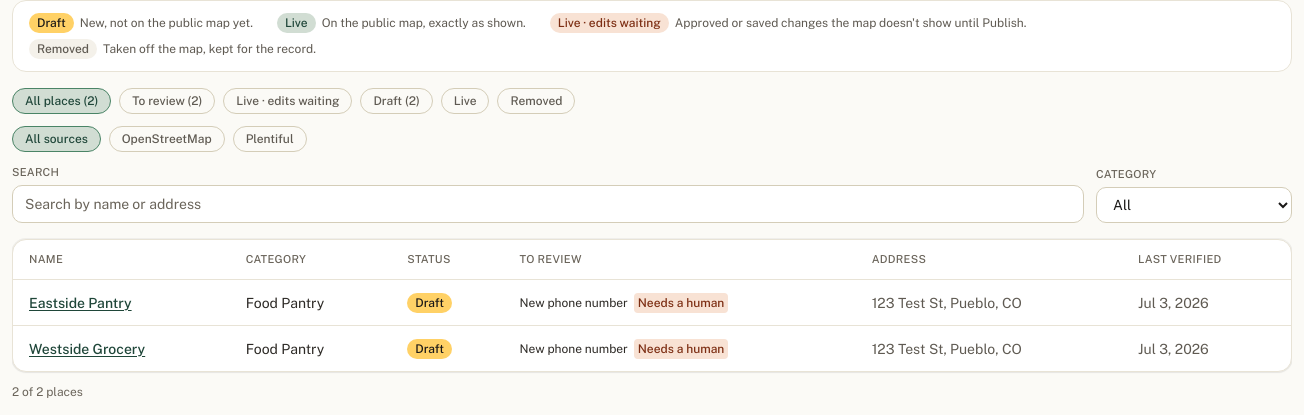
VenueListView — source/lane filters (moved from /admin/flags) › filters rows by proposal source when more than one source is present
This screenshot has width=1304, height=415.
Click the button "OpenStreetMap".
click(167, 139)  # box [109,126,225,152]
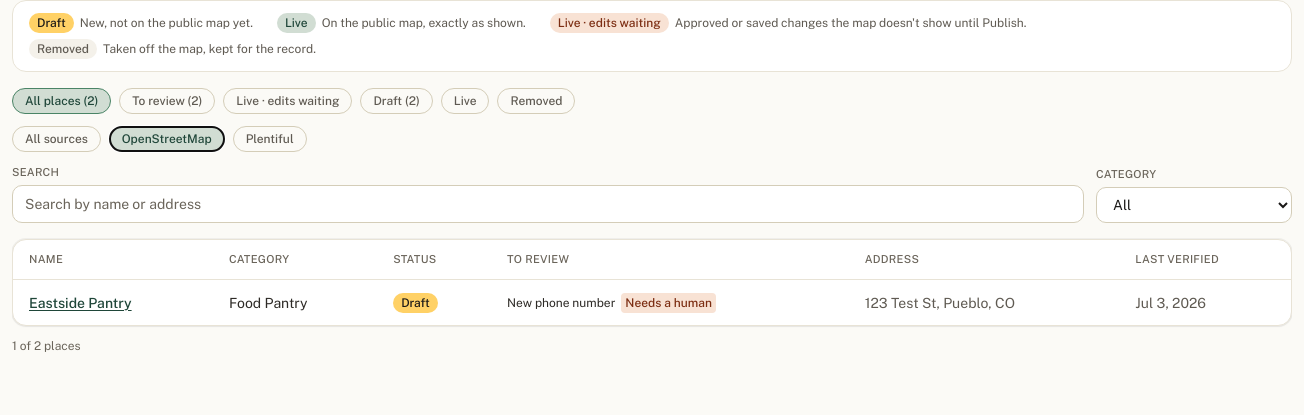
Expected: the link "Eastside Pantry" is shown, [29,295,132,311]
Result: the link "Westside Grocery" is gone
